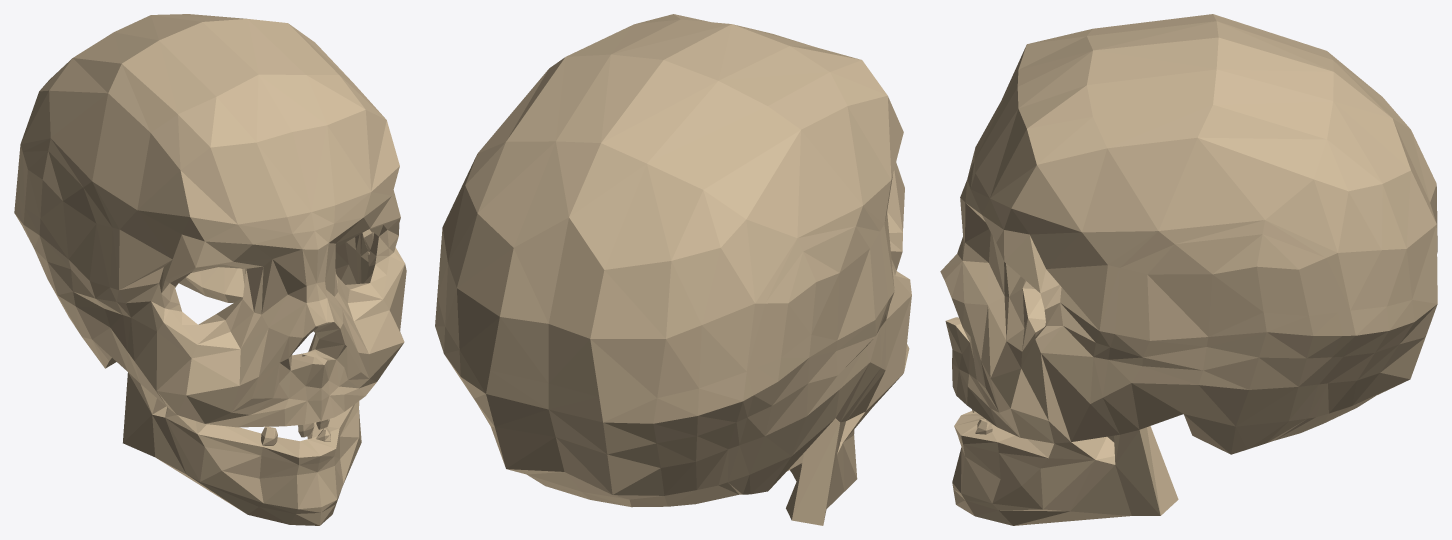
Rendered from Crane.FBX.
The picture shows the model from 3 angles, left to right: view 1: azimuth 30°, elevation 25°; view 2: azimuth 150°, elevation 25°; view 3: azimuth 270°, elevation 25°; orthographic projection. The views are drawn at different scales.
Visible parts, largest first — view 1: crane; view 2: crane; view 3: crane.
Part boxes in pixels (bbox=[...]): crane: bbox=[14, 14, 406, 525]; crane: bbox=[435, 14, 911, 525]; crane: bbox=[940, 14, 1437, 525].
Bounding box in the file's own units: 12.32 × 17.16 × 16.56.
